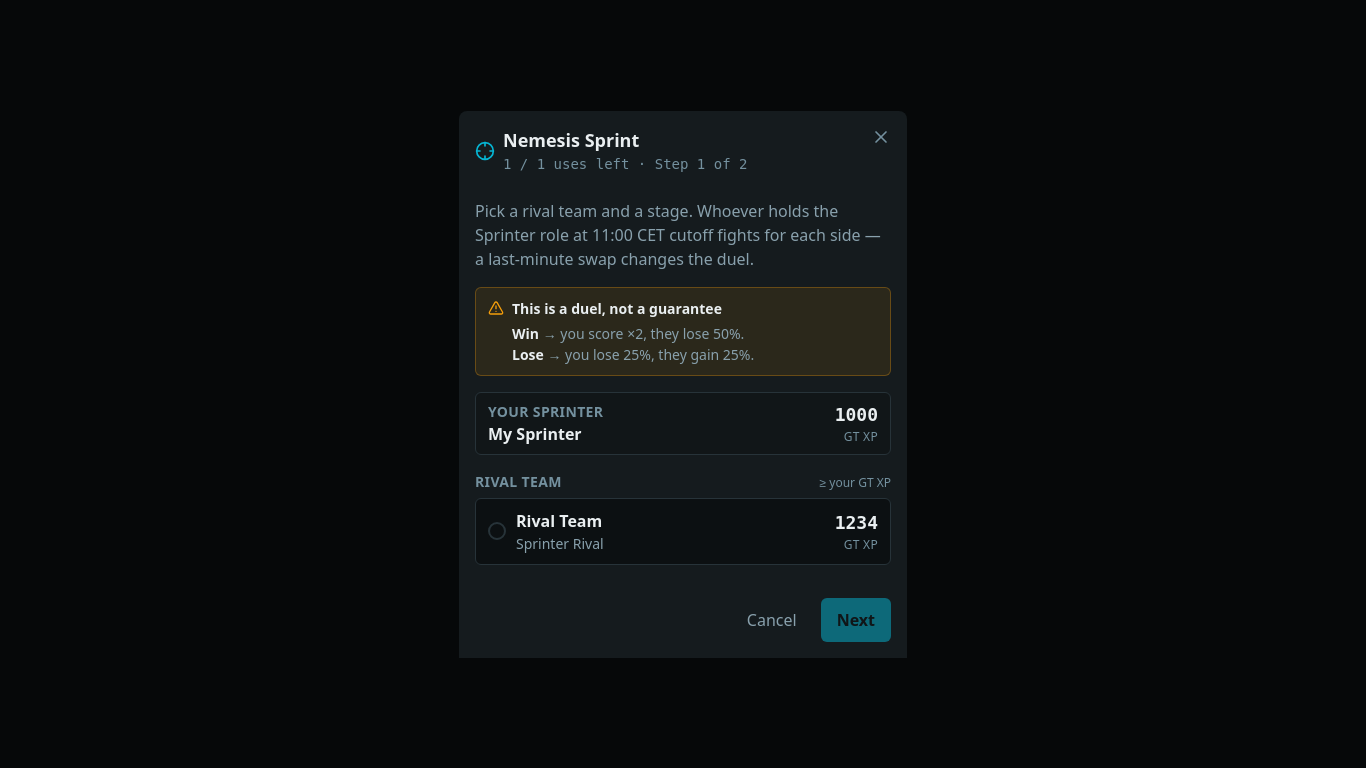
TacticNemesisModal › renders the friendly mapped error when place_tactic throws a known string
# Step 1 → pick the rival, advance to step 2.
Click the text "Rival Team": {"x": 559, "y": 520} top-left (516, 510), bottom-right (602, 532)
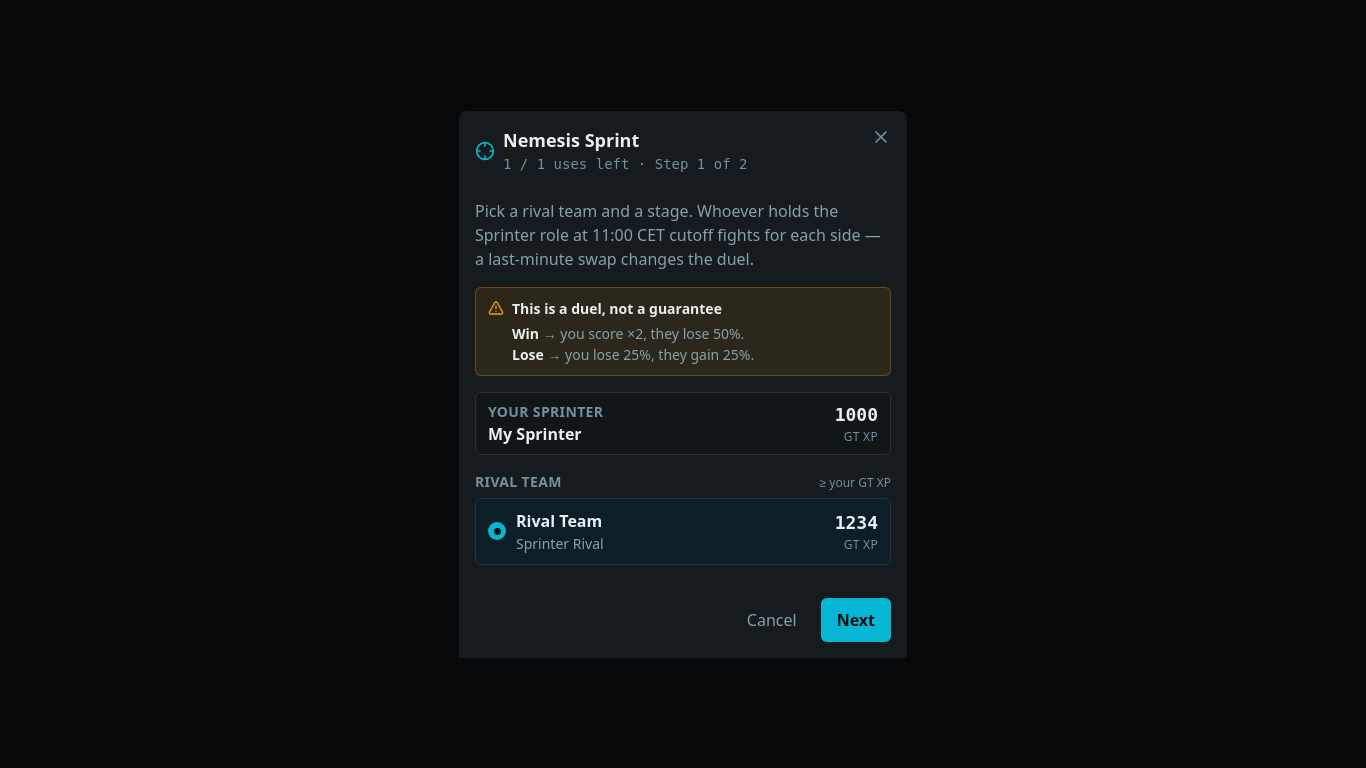
Click the button "Next": {"x": 856, "y": 620} top-left (821, 598), bottom-right (891, 642)
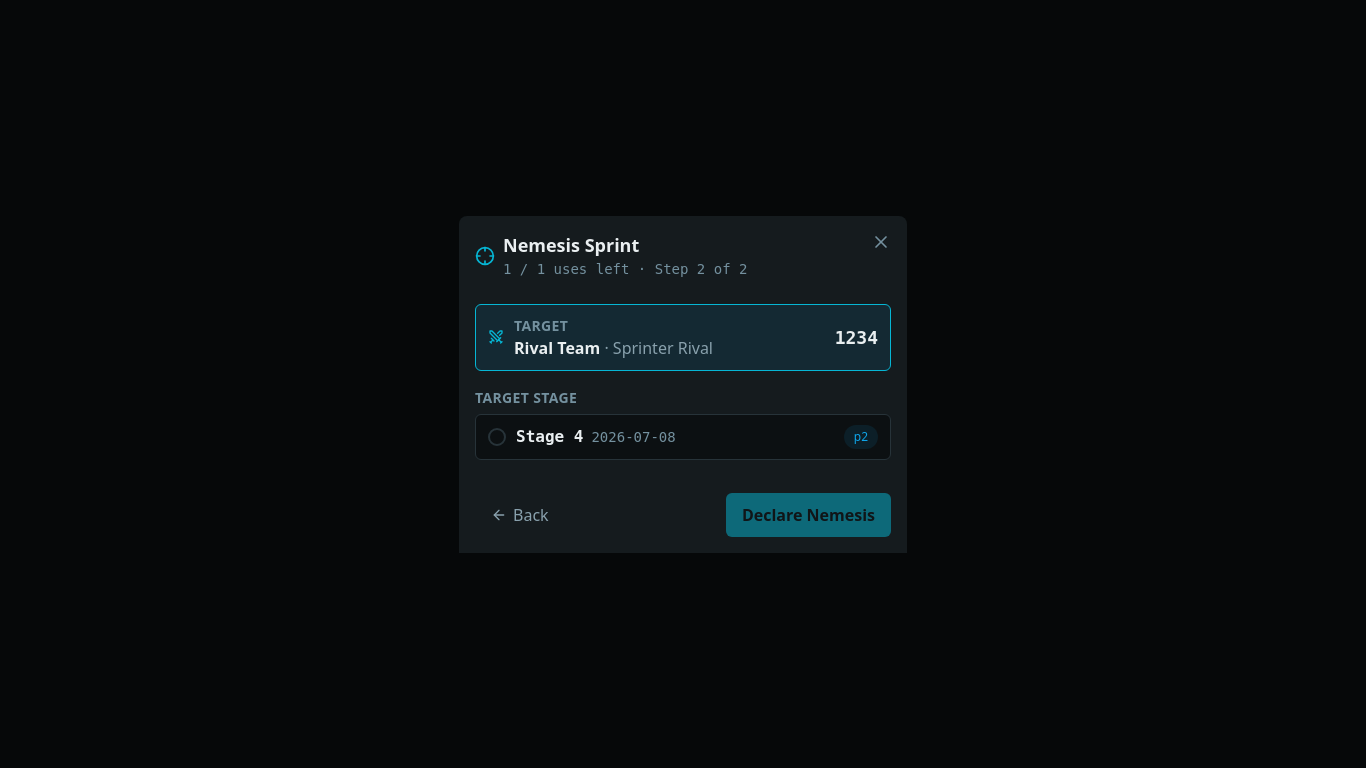
Click the text "Stage 4": {"x": 550, "y": 436} top-left (516, 424), bottom-right (583, 448)
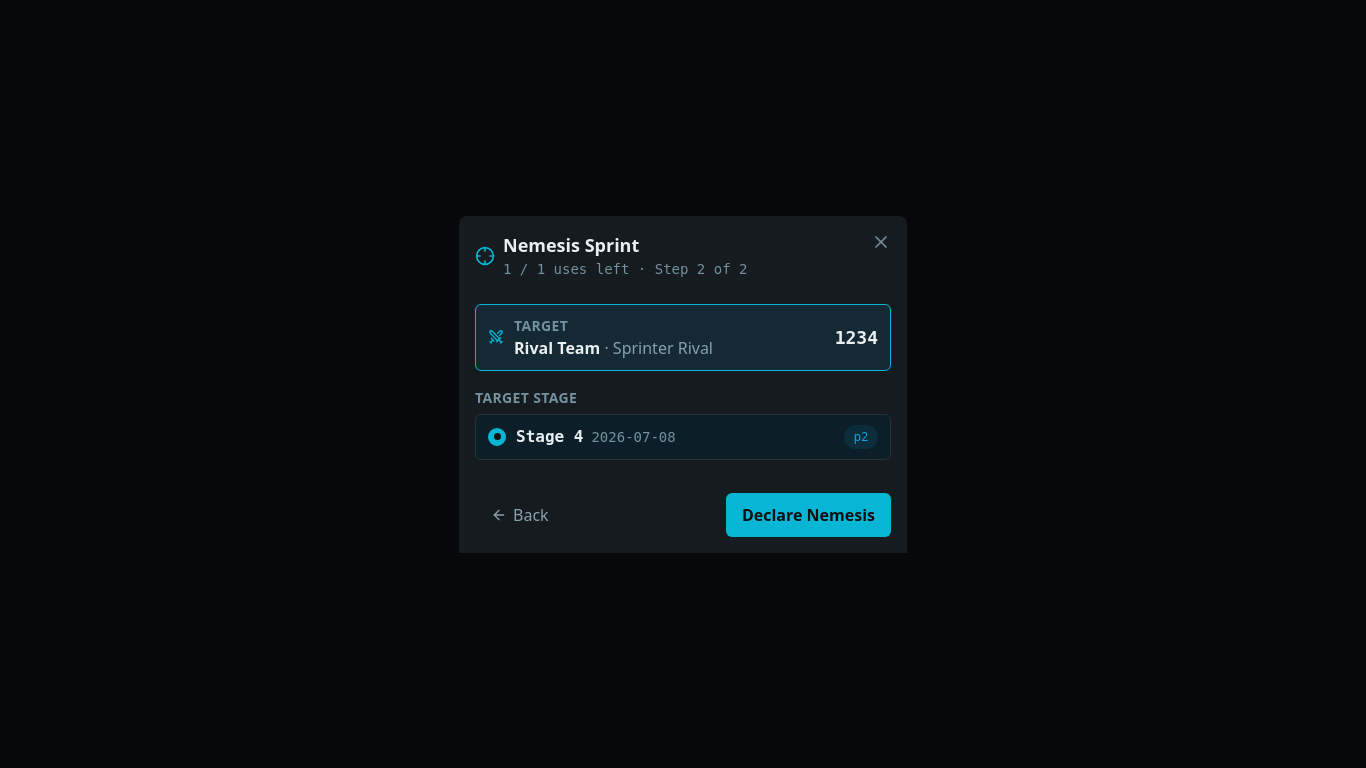
Click the button "Declare Nemesis": {"x": 808, "y": 514} top-left (726, 492), bottom-right (891, 536)
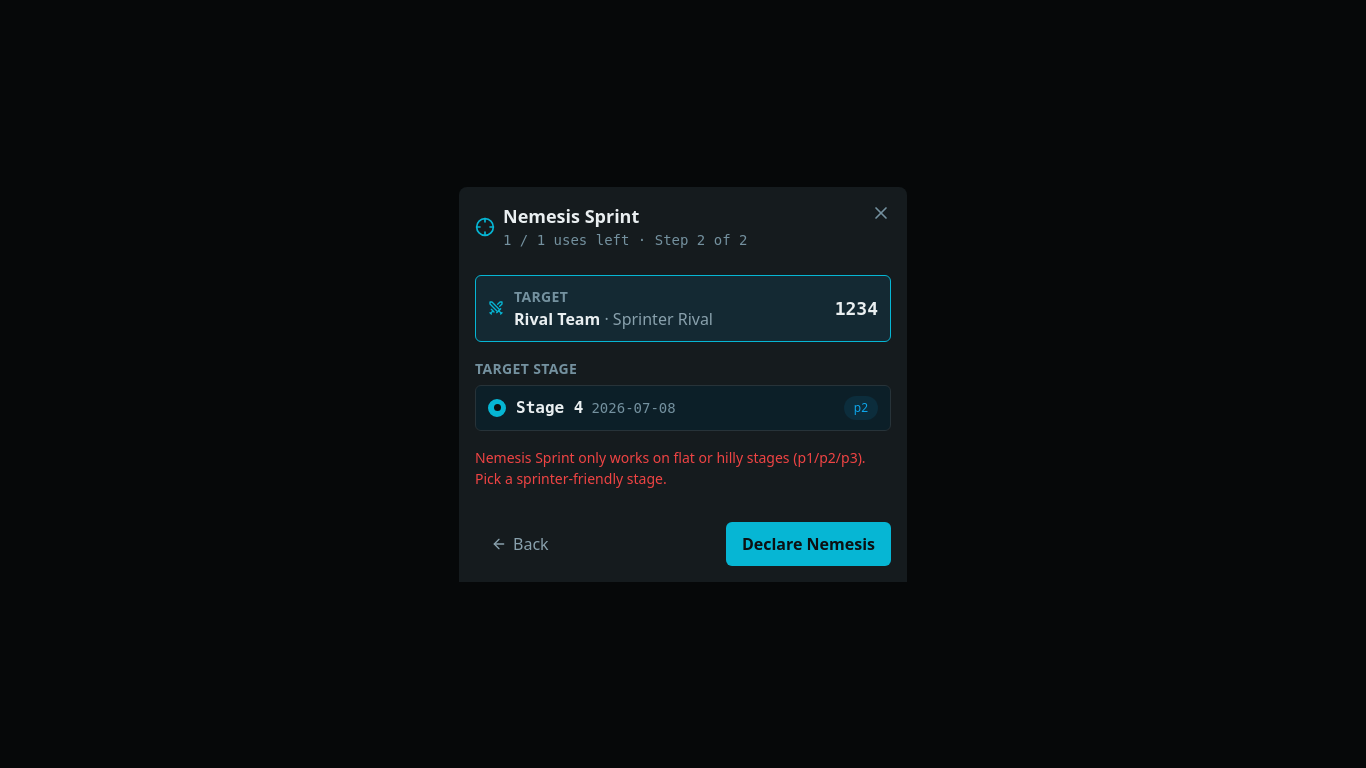
Expected: the text "flat or hilly" is shown, top-left (475, 448), bottom-right (866, 488)
